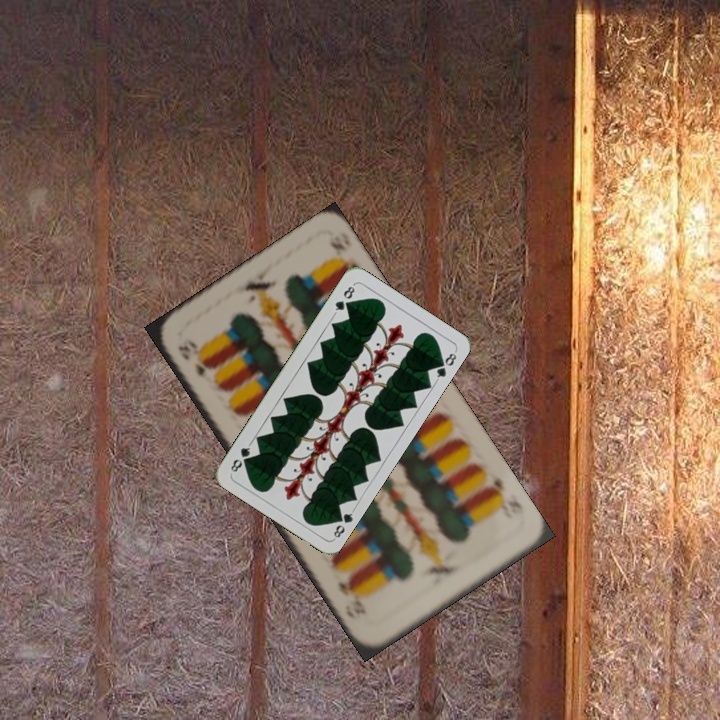E10: (480, 473, 527, 520), (173, 335, 212, 385)
G8: (329, 505, 357, 542), (330, 280, 357, 317)
